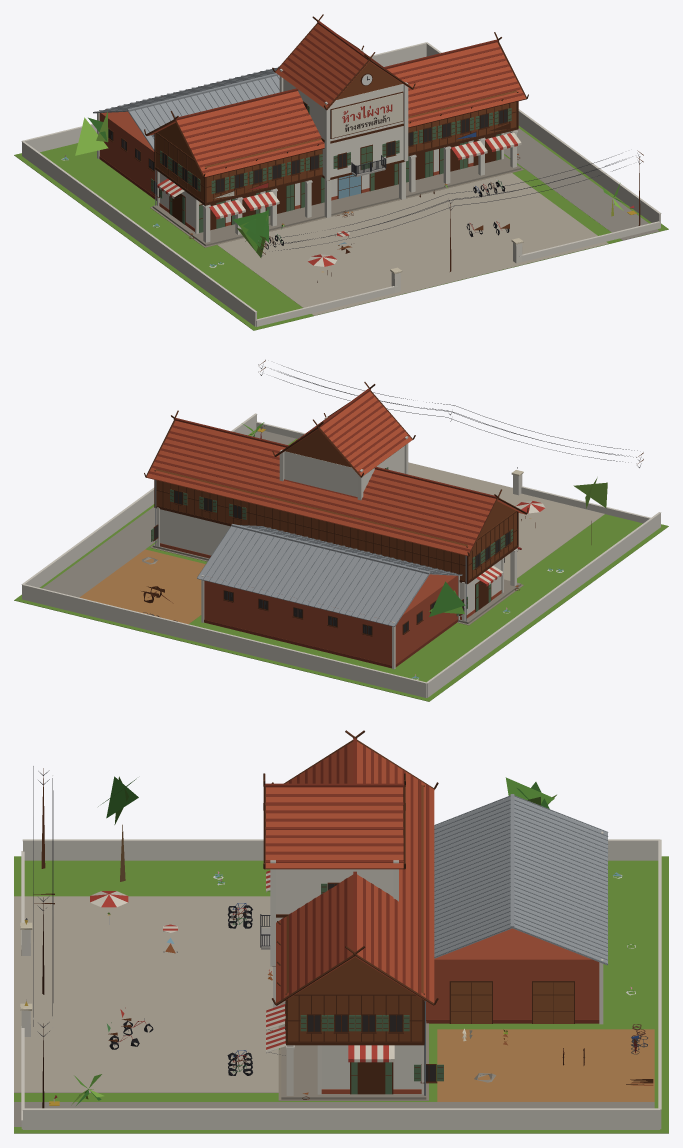
The model's file is store.glb.
3 renders of one model, top to bottom at view 1: azimuth 30°, elevation 25°; view 2: azimuth 150°, elevation 25°; view 3: azimuth 270°, elevation 25°, orthographic. The views are drawn at different scales.
Visible parts, largest first — view 1: body, windows; view 2: body, windows; view 3: body, windows.
Boxes of the visible parts, x1,y1,x2,y2 form: body: [14, 14, 668, 330]; windows: [108, 102, 507, 194]; body: [14, 359, 668, 701]; windows: [154, 491, 510, 634]; body: [14, 730, 668, 1133]; windows: [24, 884, 435, 1081].
Size of the model in its own units: 47.9 by 17.71 by 47.9.
